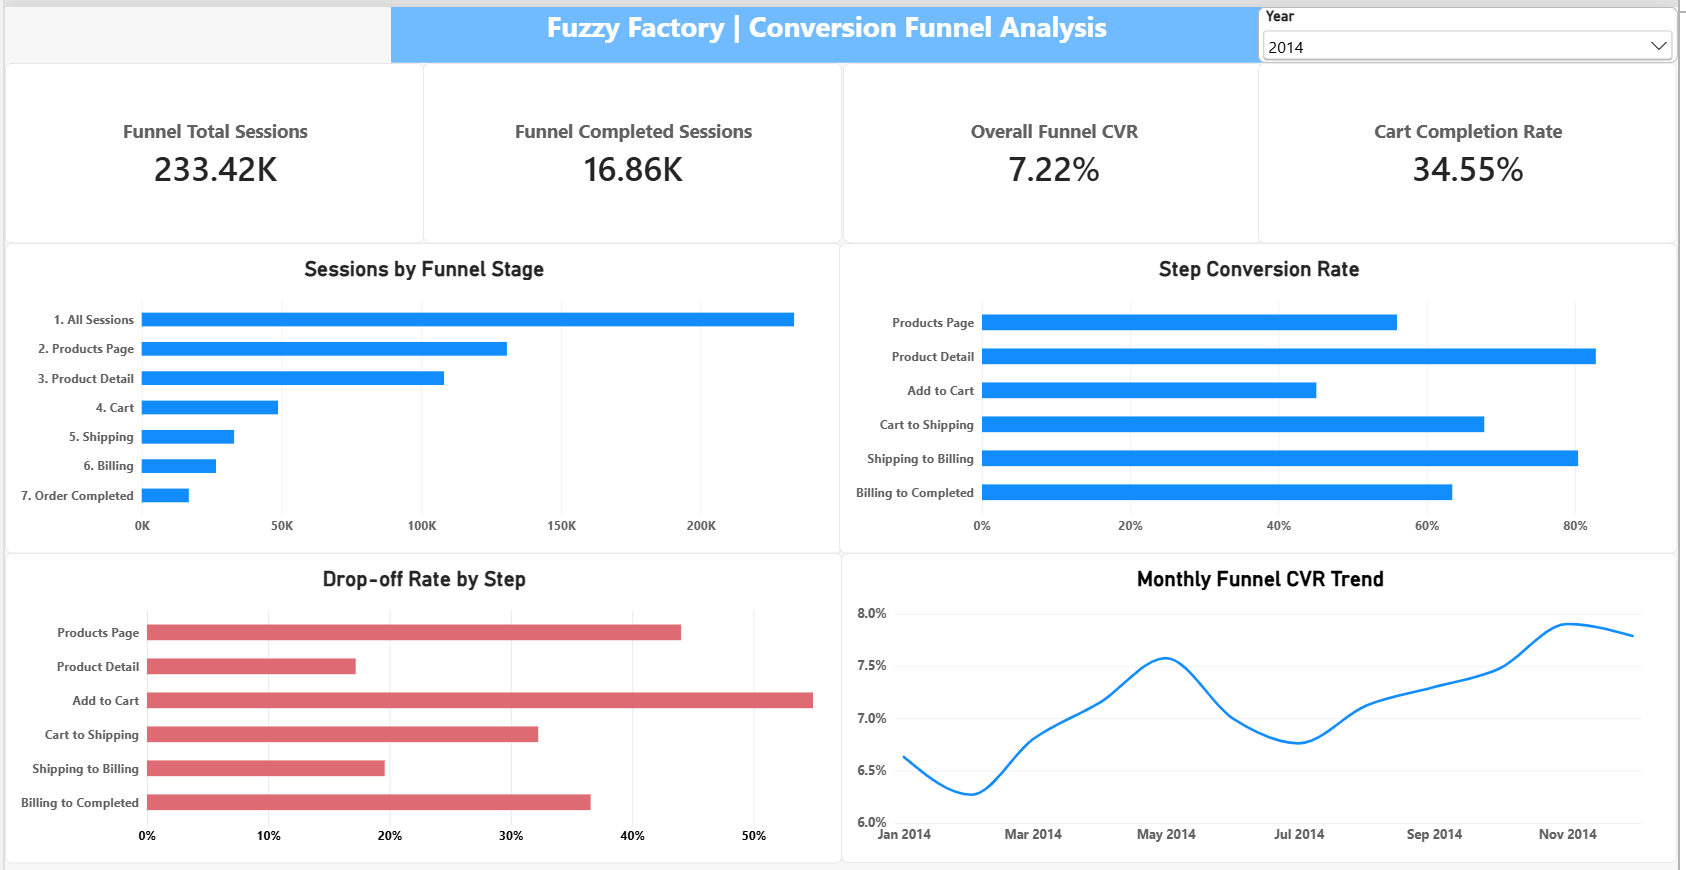

The dashboard page shown, as its layout file describes it:
{"tool":"powerbi","page":{"name":"Conversion Funnel","canvas":[1920,1080],"ordinal":3},"visuals":[{"type":"textbox","box":[443.5,0,999.7,64.1],"z":0},{"type":"cardVisual","fields":{"Data":["Conversion Funnel.Funnel Total Sessions"]},"box":[0,64.1,481.9,207.6],"z":2},{"type":"cardVisual","fields":{"Data":["Conversion Funnel.Funnel Completed Sessions"]},"box":[479.4,64.1,481.9,207.6],"z":4},{"type":"cardVisual","fields":{"Data":["Conversion Funnel.Overall Funnel CVR"]},"box":[961.3,64.1,481.9,207.6],"z":5},{"type":"cardVisual","fields":{"Data":["Conversion Funnel.Cart Completion Rate"]},"box":[1438.1,64.1,481.9,207.6],"z":6},{"type":"slicer","fields":{"Values":["Dim_Date.Year"]},"box":[1438.1,0,481.9,64.1],"z":7},{"type":"clusteredBarChart","title":"Sessions by Funnel Stage","fields":{"Category":["Funnel_Stages.Attribute"],"Y":["Sum(Funnel_Stages.Value)"]},"box":[0,271.7,961.3,356.3],"z":8},{"type":"clusteredBarChart","title":"Step Conversion Rate","fields":{"Category":["Funnel_Steps.Step"],"Y":["Funnel_Steps.Step Conversion Rate"]},"box":[958.7,271.7,961.3,356.3],"z":9},{"type":"clusteredBarChart","title":"Drop-off Rate by Step","fields":{"Category":["Funnel_Steps.Step"],"Y":["Funnel_Steps.Step Drop-off Rate"]},"box":[0,628,961.3,356.3],"z":10},{"type":"lineChart","title":"Monthly Funnel CVR Trend","fields":{"Category":["Dim_Date.Date"],"Y":["Conversion Funnel.Overall Funnel CVR"]},"box":[961,628,959,356],"z":11}]}

Visuals, with their boxes on the page's 1920x1080 design canvas (x1, y1, x2, y2). These are canvas units, not pixel positions in the 1686x870 screenshot, which may show the page scaled, cropped or inside an application window:
textbox: l=444, t=0, r=1443, b=64
cardVisual - Conversion Funnel.Funnel Total Sessions: l=0, t=64, r=482, b=272
cardVisual - Conversion Funnel.Funnel Completed Sessions: l=479, t=64, r=961, b=272
cardVisual - Conversion Funnel.Overall Funnel CVR: l=961, t=64, r=1443, b=272
cardVisual - Conversion Funnel.Cart Completion Rate: l=1438, t=64, r=1920, b=272
slicer - Dim_Date.Year: l=1438, t=0, r=1920, b=64
"Sessions by Funnel Stage" clusteredBarChart: l=0, t=272, r=961, b=628
"Step Conversion Rate" clusteredBarChart: l=959, t=272, r=1920, b=628
"Drop-off Rate by Step" clusteredBarChart: l=0, t=628, r=961, b=984
"Monthly Funnel CVR Trend" lineChart: l=961, t=628, r=1920, b=984
